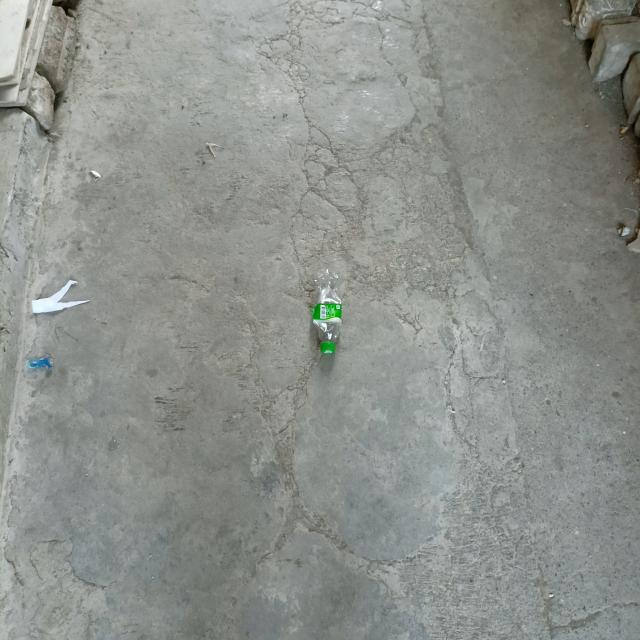Bottle: (312, 270, 342, 354)
